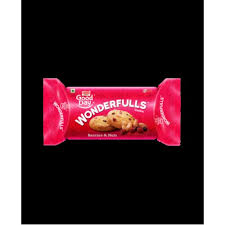gooday-small: (43, 77, 180, 143)
